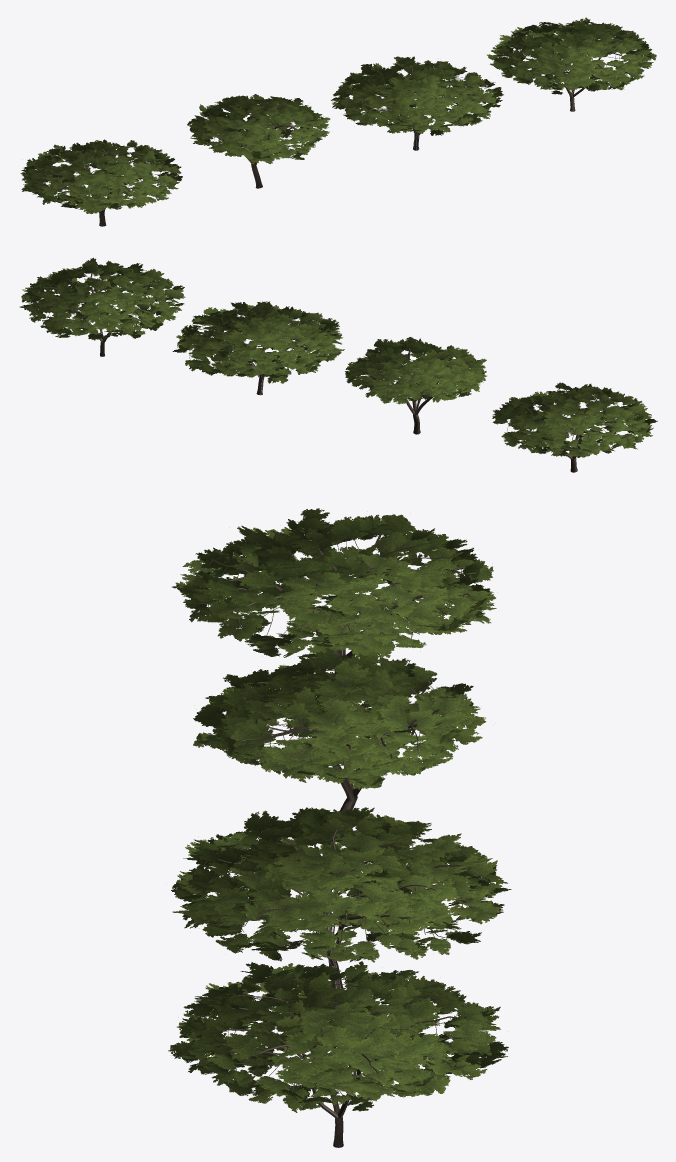
The model's file is acacia.gltf.
The picture shows the model from 3 angles, top to bottom: view 1: azimuth 30°, elevation 25°; view 2: azimuth 150°, elevation 25°; view 3: azimuth 270°, elevation 25°; orthographic projection. The views are drawn at different scales.
Parts seen in each view (by area): view 1: Acacia3_LOD0, Acacia4_LOD0, Acacia1_LOD0, Acacia2_LOD0; view 2: Acacia3_LOD0, Acacia4_LOD0, Acacia1_LOD0, Acacia2_LOD0; view 3: Acacia3_LOD0, Acacia4_LOD0, Acacia1_LOD0, Acacia2_LOD0.
Boxes of the visible parts, left/top/right/bottom form: Acacia3_LOD0: left=331, top=56, right=503, bottom=150; Acacia4_LOD0: left=487, top=17, right=656, bottom=111; Acacia1_LOD0: left=20, top=139, right=182, bottom=226; Acacia2_LOD0: left=187, top=94, right=330, bottom=188; Acacia3_LOD0: left=172, top=301, right=344, bottom=395; Acacia4_LOD0: left=19, top=257, right=185, bottom=356; Acacia1_LOD0: left=492, top=382, right=657, bottom=472; Acacia2_LOD0: left=345, top=337, right=486, bottom=434; Acacia3_LOD0: left=171, top=807, right=511, bottom=990; Acacia4_LOD0: left=168, top=961, right=508, bottom=1147; Acacia1_LOD0: left=172, top=508, right=496, bottom=673; Acacia2_LOD0: left=193, top=648, right=486, bottom=811.
Size of what is drawn, in the model's own units: 59.6 by 6.82 by 14.9.
2 materials, 2 textured.
